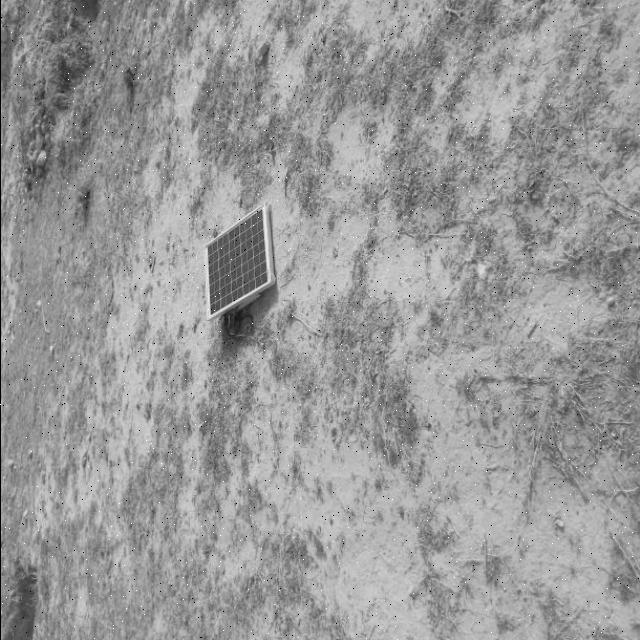Normal Solar Panel: (203, 202, 270, 320)
